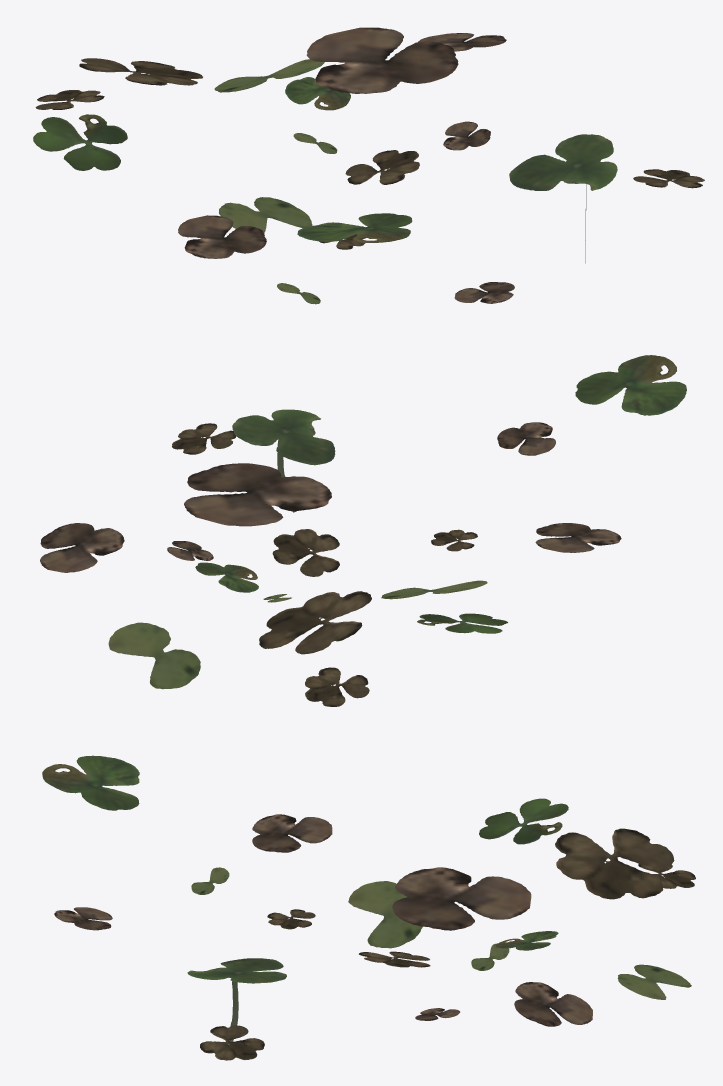
File: arden_forest_sorrel_03_foliage.fbx
The picture shows the model from 3 angles, top to bottom: view 1: azimuth 30°, elevation 25°; view 2: azimuth 150°, elevation 25°; view 3: azimuth 270°, elevation 25°; orthographic projection. The views are drawn at different scales.
Visible parts, largest first — view 1: arden_forest_sorrel_03_foliage; view 2: arden_forest_sorrel_03_foliage; view 3: arden_forest_sorrel_03_foliage.
Boxes of the visible parts, x1,y1,x2,y2 form: arden_forest_sorrel_03_foliage: (33,27,704,304); arden_forest_sorrel_03_foliage: (40,355,686,706); arden_forest_sorrel_03_foliage: (42,755,695,1060).
Size of the model in its own units: 56.05 by 17.4 by 66.27.
